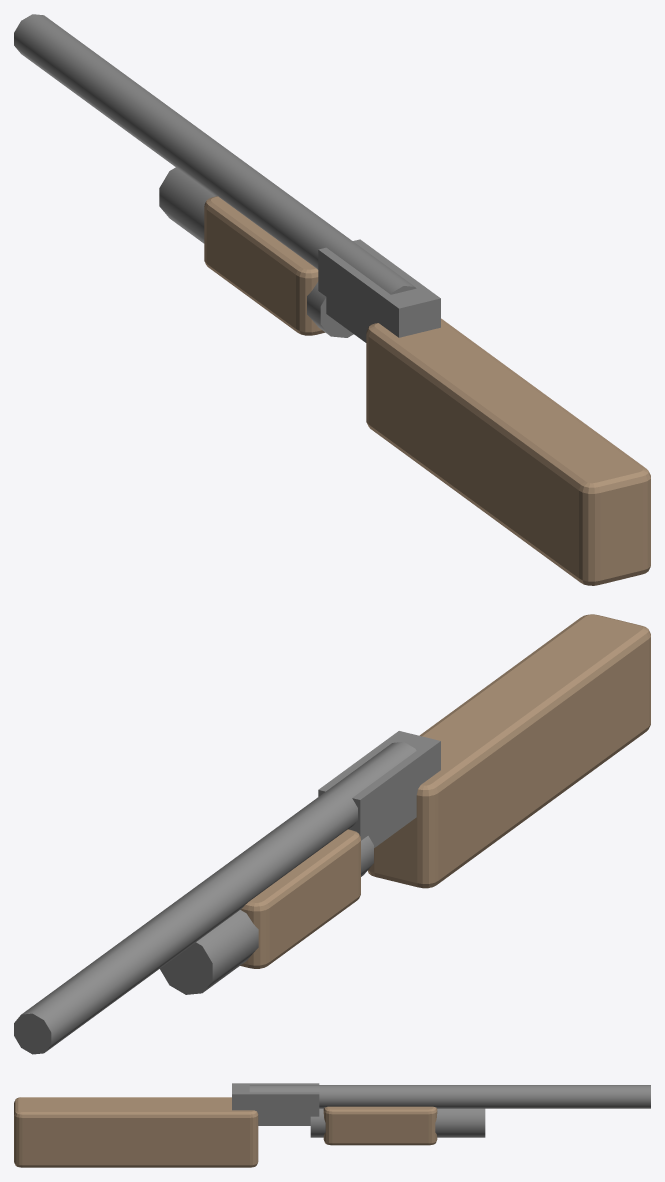
File: item_pompali.glb
3 views of the same model, one above another, from view 1: azimuth 30°, elevation 25°; view 2: azimuth 150°, elevation 25°; view 3: azimuth 270°, elevation 25° (orthographic). The views are drawn at different scales.
Parts seen in each view (by area): view 1: pompali; view 2: pompali; view 3: pompali.
Part boxes in pixels (x1,y1,x2,y2): pompali: (14, 14, 650, 585); pompali: (14, 614, 650, 1054); pompali: (14, 1083, 650, 1167).
Bounding box in the file's own units: 0.05 × 0.094 × 0.73.
